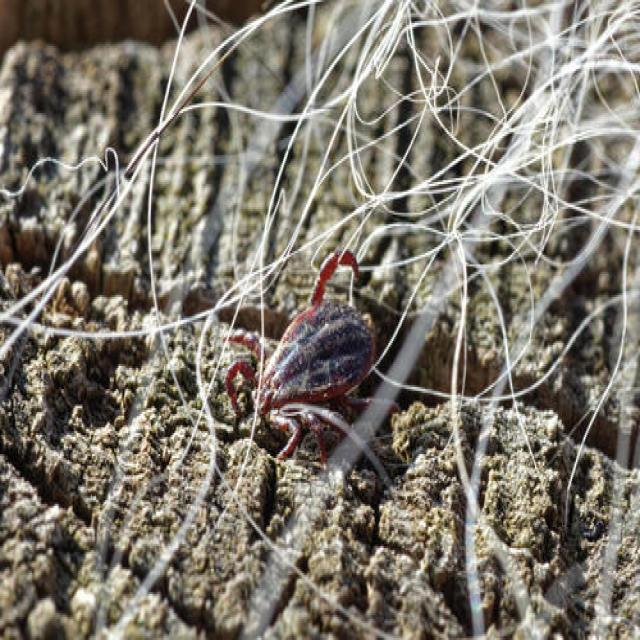Dermacentor Reticulatus-M: (225, 249, 401, 469)
